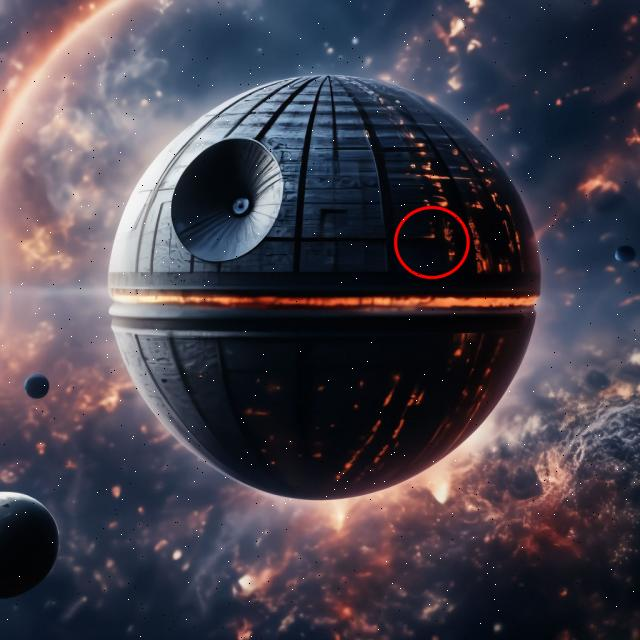Death-star: (106, 74, 542, 504)
